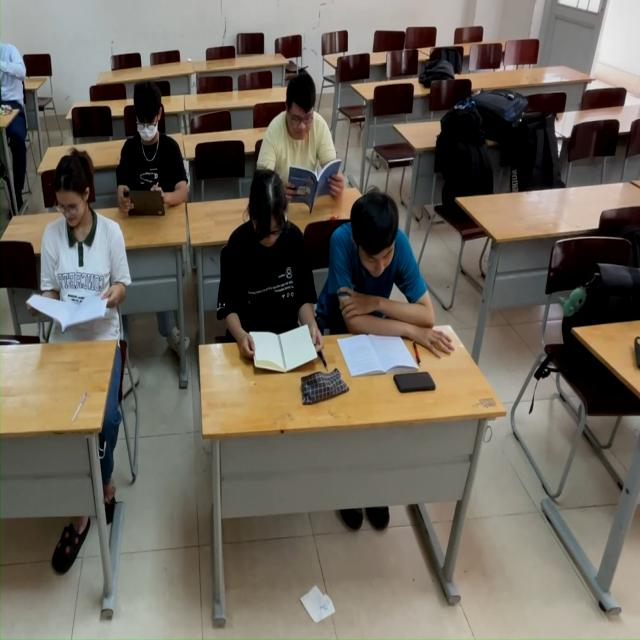read: (322, 189, 461, 373), (17, 143, 125, 377), (211, 180, 323, 380), (110, 71, 197, 220), (262, 77, 338, 213)
